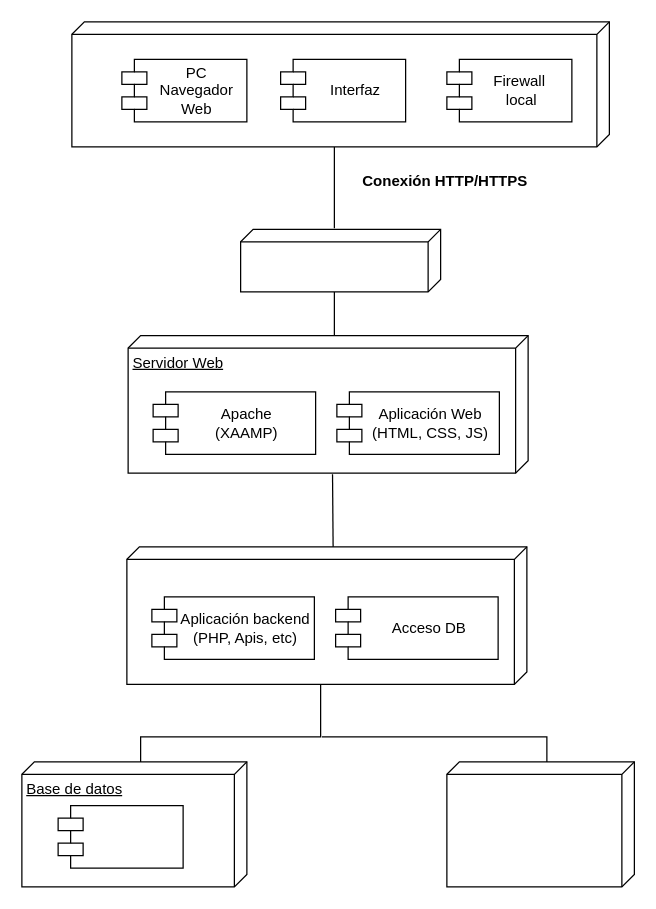
Image size: 656x909. Some labels were removed from this diagram. The box of each missing label's shape, as (x1, y1, x2, y2) in pixels:
Impresora: (446, 761, 634, 887)
MySQL: (57, 804, 183, 868)
Proxy de Seguridad: (239, 228, 441, 292)
Servidor de Aplicaciones: (126, 546, 527, 684)
Usuario: (71, 21, 609, 147)
